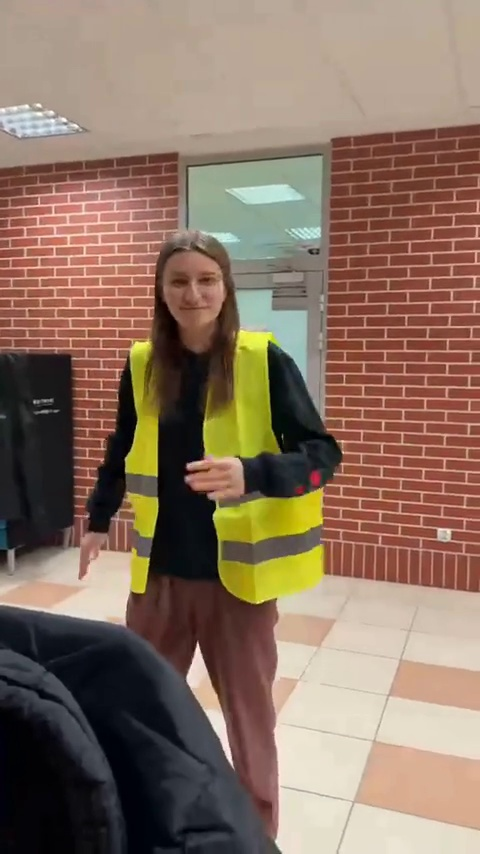vest: (80, 229, 339, 854)
